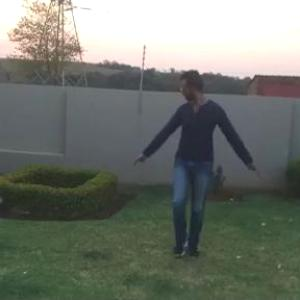land: (116, 60, 290, 284)
